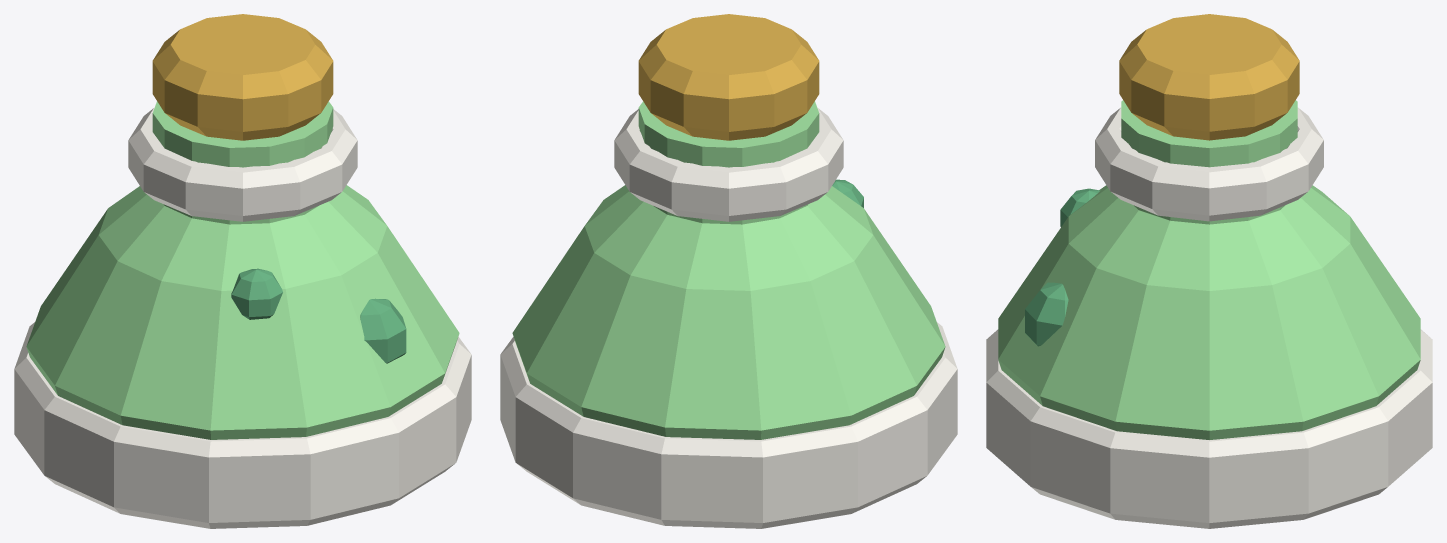
Rendered from game-ui-icon-library-poison-flask-90fdfdb4__18988.glb.
The picture shows the model from 3 angles, left to right: view 1: azimuth 30°, elevation 25°; view 2: azimuth 150°, elevation 25°; view 3: azimuth 270°, elevation 25°; orthographic projection.
Visible parts, largest first — view 1: poison-flask; view 2: poison-flask; view 3: poison-flask.
Boxes of the visible parts, x1,y1,x2,y2 form: poison-flask: (14, 14, 471, 528); poison-flask: (500, 14, 957, 528); poison-flask: (986, 14, 1432, 528).
Size of the model in its own units: 0.8206 by 0.8638 by 0.8.
